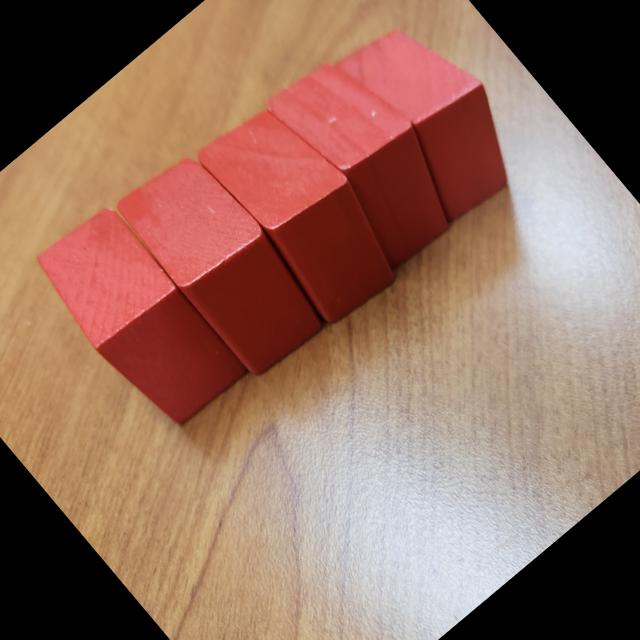red: (23, 195, 255, 441), (190, 88, 418, 330), (110, 138, 336, 380), (256, 35, 480, 272), (322, 0, 543, 230)
